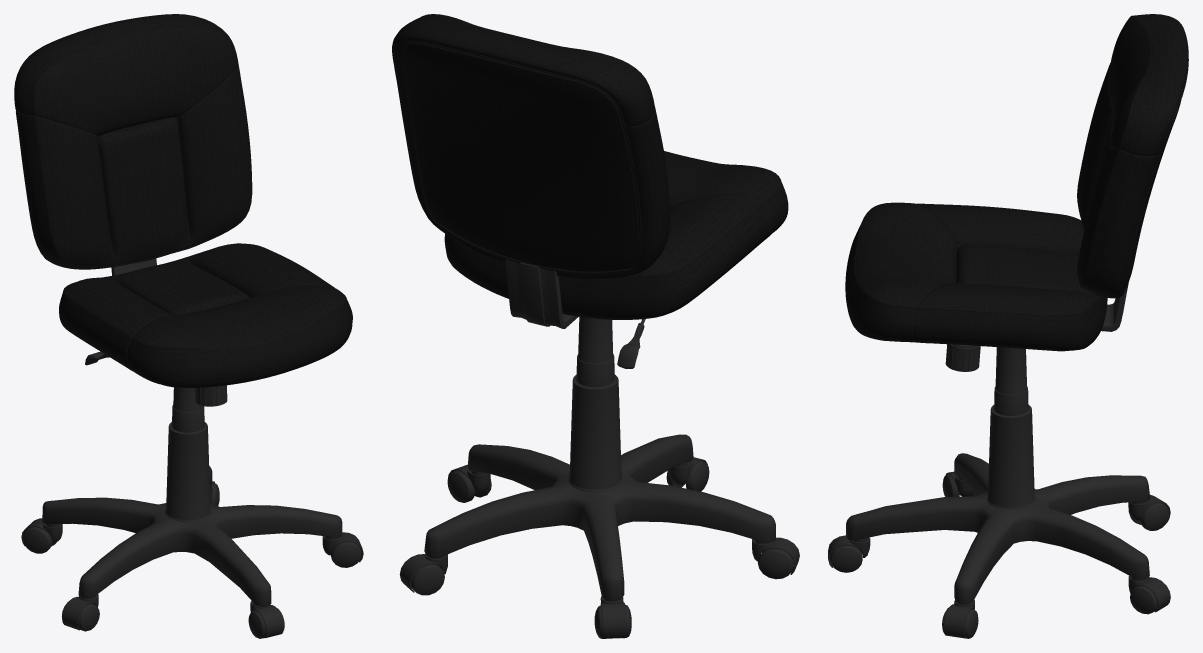
Rendered from swivel_office_chair.glb.
The picture shows the model from 3 angles, left to right: view 1: azimuth 30°, elevation 25°; view 2: azimuth 150°, elevation 25°; view 3: azimuth 270°, elevation 25°; orthographic projection. The views are drawn at different scales.
Parts seen in each view (by area): view 1: B016ID34BO; view 2: B016ID34BO; view 3: B016ID34BO.
Boxes of the visible parts, x1=… form: B016ID34BO: x1=14, y1=14, x2=363, y2=638; B016ID34BO: x1=392, y1=14, x2=799, y2=638; B016ID34BO: x1=828, y1=14, x2=1188, y2=638.
Bounding box in the file's own units: 0.6095 × 0.9715 × 0.6095.
Materials: 1 (1 with a texture image).
